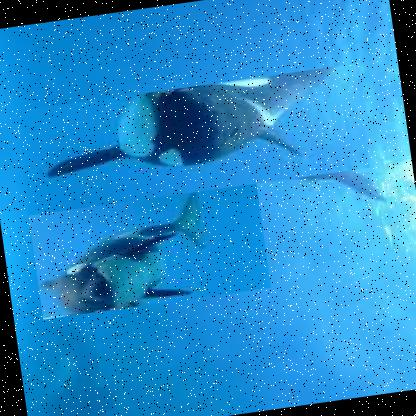killer_whale: (13, 61, 369, 214), (26, 179, 270, 318)
